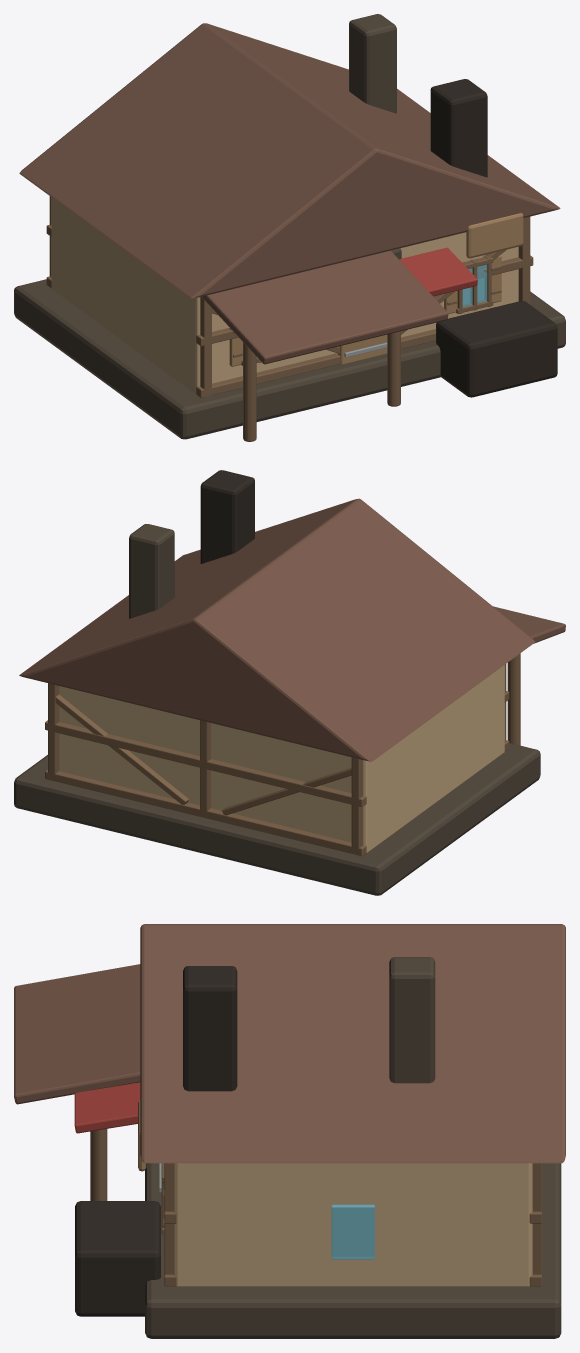
File: craft_workshop.glb
3 views of the same model, one above another, from view 1: azimuth 30°, elevation 25°; view 2: azimuth 150°, elevation 25°; view 3: azimuth 270°, elevation 25° (orthographic). The views are drawn at different scales.
Visible parts, largest first — view 1: Roof, StoneFoundation, GroundFloor, WorkshopLeanTo, Forge, ForgeChimney, Chimney, ShopAwning, TimberBeam, ShopSign, WorkshopPost, WorkshopPost.001 (+5 smaller); view 2: Roof, GroundFloor, StoneFoundation, ForgeChimney, Chimney, TimberBeam.003, TimberBeam.001, DiagonalBrace.003, WorkshopPost, WorkshopLeanTo, TimberPost.001, DiagonalBrace.001 (+2 smaller); view 3: Roof, GroundFloor, StoneFoundation, WorkshopLeanTo, Forge, ForgeChimney, Chimney, ShopAwning, WindowGlass.003, WorkshopPost.001, TimberPost.004, TimberPost.005.
Part boxes in pixels (x1,y1,x2,y2): Roof: [19, 23, 560, 298]; StoneFoundation: [14, 279, 565, 439]; GroundFloor: [51, 197, 518, 394]; WorkshopLeanTo: [201, 250, 448, 364]; Forge: [436, 301, 557, 397]; ForgeChimney: [430, 79, 487, 177]; Chimney: [349, 14, 396, 113]; ShopAwning: [399, 247, 477, 296]; TimberBeam: [196, 329, 435, 397]; ShopSign: [466, 213, 523, 258]; WorkshopPost: [243, 342, 256, 441]; WorkshopPost.001: [387, 331, 400, 406]; Roof: [19, 498, 535, 761]; GroundFloor: [59, 665, 504, 852]; StoneFoundation: [14, 743, 540, 895]; ForgeChimney: [200, 470, 254, 563]; Chimney: [129, 524, 174, 618]; TimberBeam.003: [45, 720, 366, 806]; TimberBeam.001: [45, 769, 366, 856]; DiagonalBrace.003: [55, 694, 188, 804]; WorkshopPost: [507, 653, 520, 745]; WorkshopLeanTo: [493, 606, 565, 643]; TimberPost.001: [351, 757, 362, 855]; DiagonalBrace.001: [222, 767, 351, 815]; Roof: [140, 924, 565, 1163]; GroundFloor: [174, 1163, 532, 1286]; StoneFoundation: [145, 1163, 561, 1338]; WorkshopLeanTo: [14, 964, 140, 1104]; Forge: [75, 1201, 160, 1316]; ForgeChimney: [183, 966, 237, 1091]; Chimney: [389, 957, 435, 1083]; ShopAwning: [74, 1082, 140, 1133]; WindowGlass.003: [331, 1204, 374, 1259]; WorkshopPost.001: [90, 1129, 107, 1200]; TimberPost.004: [164, 1163, 173, 1274]; TimberPost.005: [532, 1163, 541, 1274].
Bounding box in the file's own units: 8.55 × 5.65 × 8.68.
